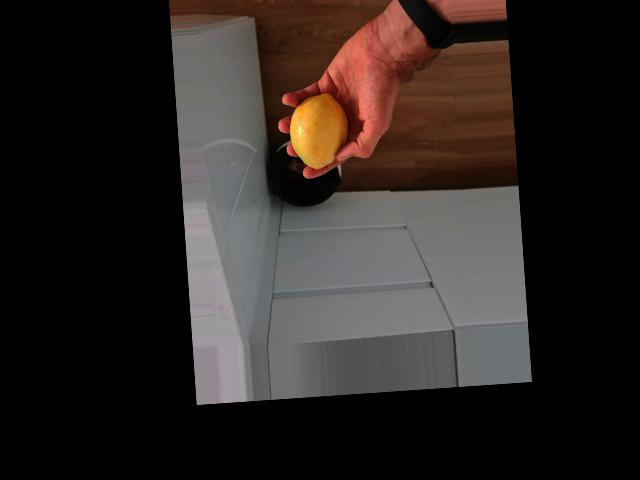lemon: (285, 91, 350, 170)
